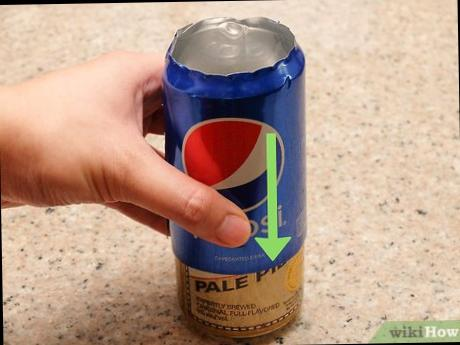metal: (133, 5, 336, 345)
